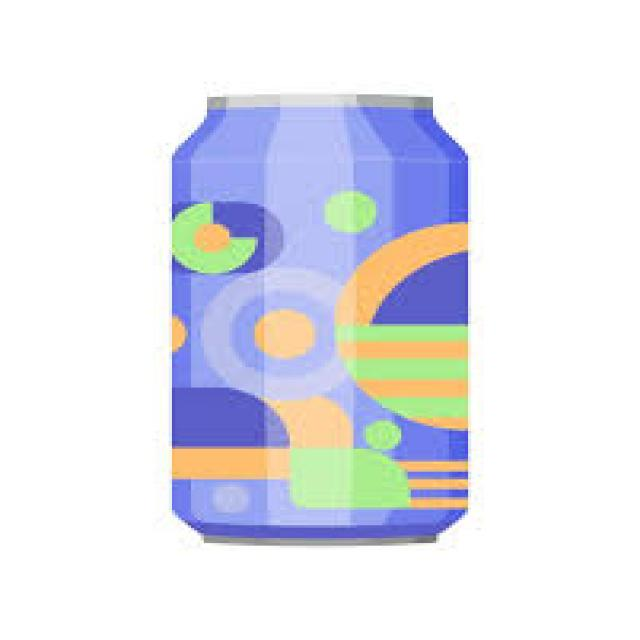Cans: (162, 84, 488, 551)
